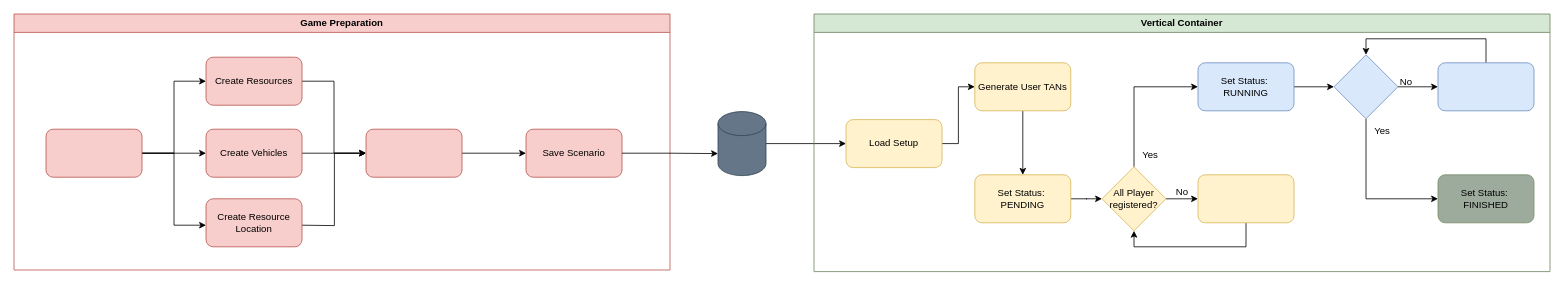
Some shapes in this 1564 by 286 pixel diagram are drawn without their labels. Here are the shapes that lost their labels. From the top down, the centre of each, then its label:
At (1365,86): "Game finished?".
At (1485,86): "Administer Game State(s)".
At (93,152): "Create Scenario".
At (413,152): "Define required User".
At (741,143): "DB".
At (1245,198): "Wait for Player Login".
